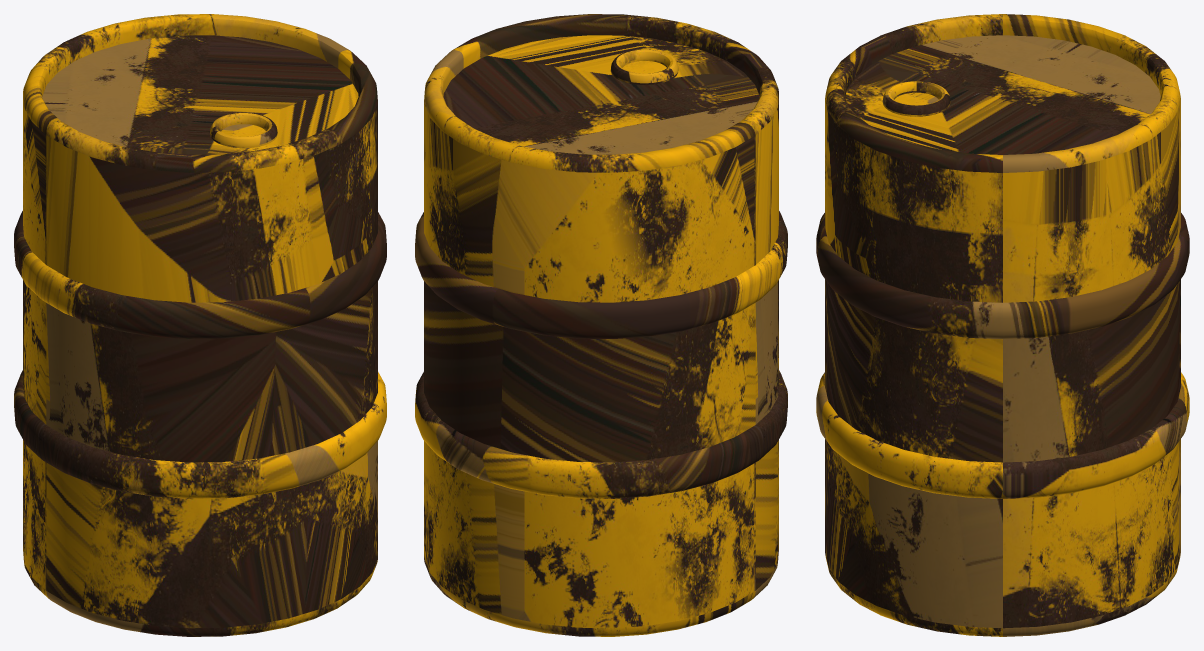
The model's file is Barrel.fbx.
3 renders of one model, left to right at view 1: azimuth 30°, elevation 25°; view 2: azimuth 150°, elevation 25°; view 3: azimuth 270°, elevation 25°, orthographic.
Parts seen in each view (by area): view 1: Cylinder; view 2: Cylinder; view 3: Cylinder.
Boxes of the visible parts, x1=… form: Cylinder: x1=14, y1=14, x2=386, y2=636; Cylinder: x1=415, y1=14, x2=787, y2=636; Cylinder: x1=816, y1=14, x2=1189, y2=636.
Size of the model in its own units: 60.06 by 85 by 60.06.
